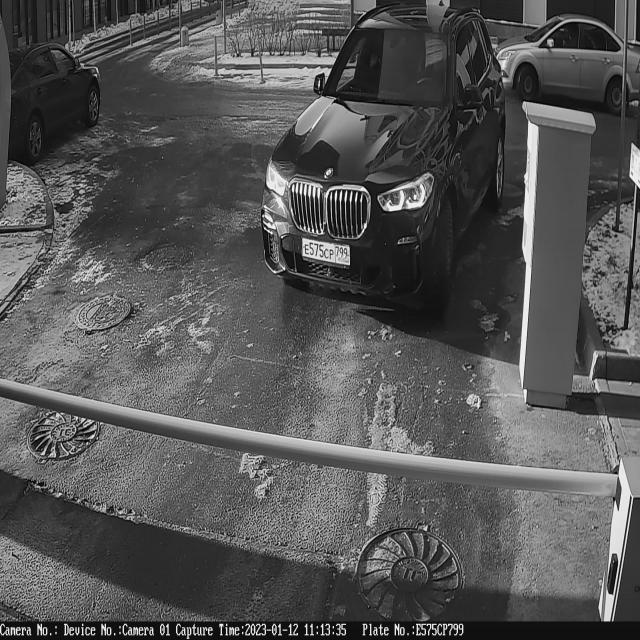car-plate-numbers: (298, 235, 354, 275)
